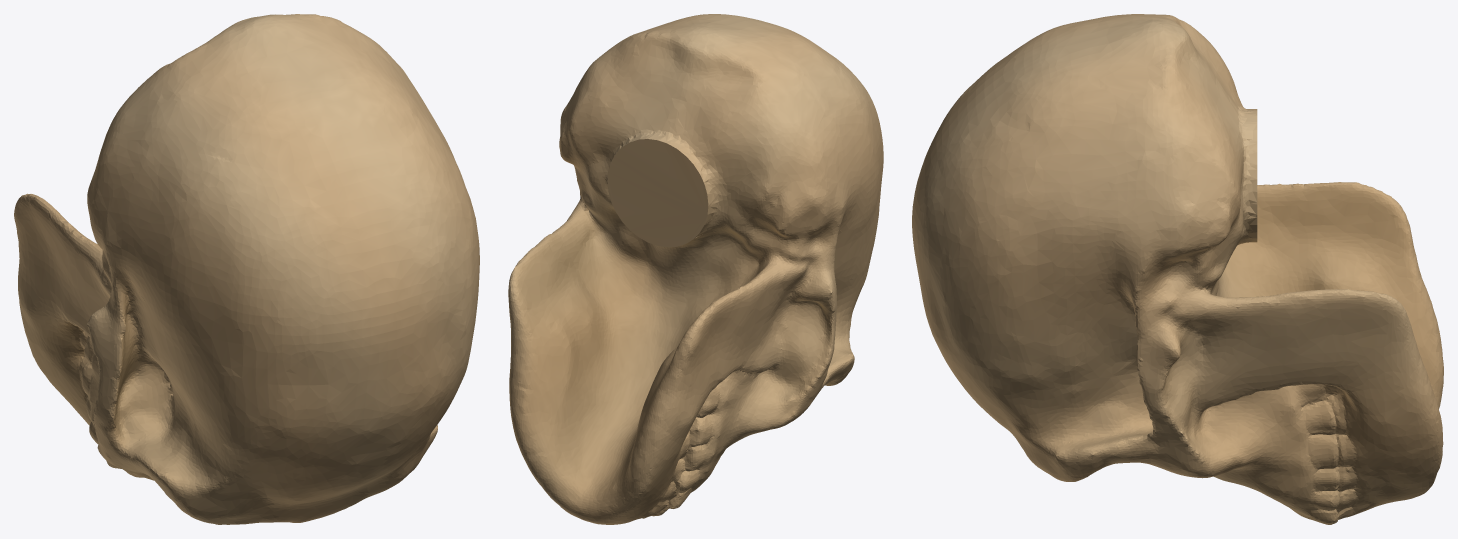
File: sediba.glb
3 views of the same model, side by side, from view 1: azimuth 30°, elevation 25°; view 2: azimuth 150°, elevation 25°; view 3: azimuth 270°, elevation 25° (orthographic). The views are drawn at different scales.
Bounding box in the file's own units: 25.3 × 38.47 × 37.92.
